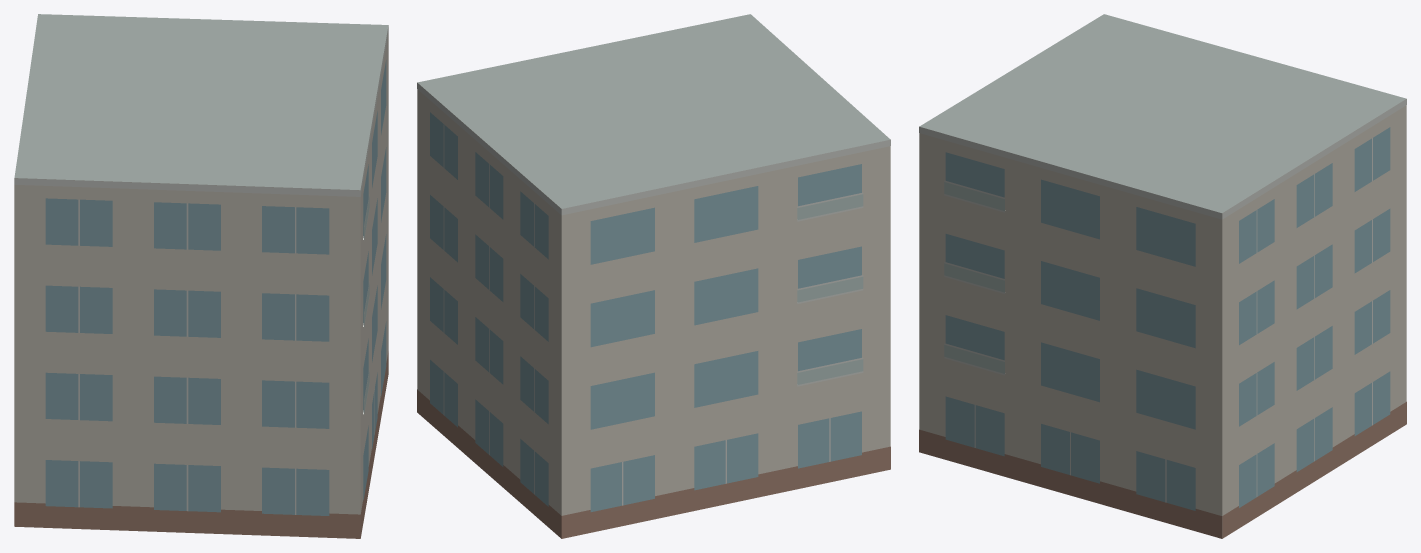
File: survey-upis-33036097.glb
The picture shows the model from 3 angles, left to right: view 1: azimuth 30°, elevation 25°; view 2: azimuth 150°, elevation 25°; view 3: azimuth 270°, elevation 25°; orthographic projection. The views are drawn at different scales.
Parts seen in each view (by area): view 1: survey-upis-33036097.tmp; view 2: survey-upis-33036097.tmp; view 3: survey-upis-33036097.tmp.
Part boxes in pixels (x1=…): survey-upis-33036097.tmp: x1=14, y1=14, x2=388, y2=538; survey-upis-33036097.tmp: x1=417, y1=14, x2=890, y2=538; survey-upis-33036097.tmp: x1=919, y1=14, x2=1406, y2=538.
Size of the model in its own units: 16.42 by 12.5 by 16.97.
